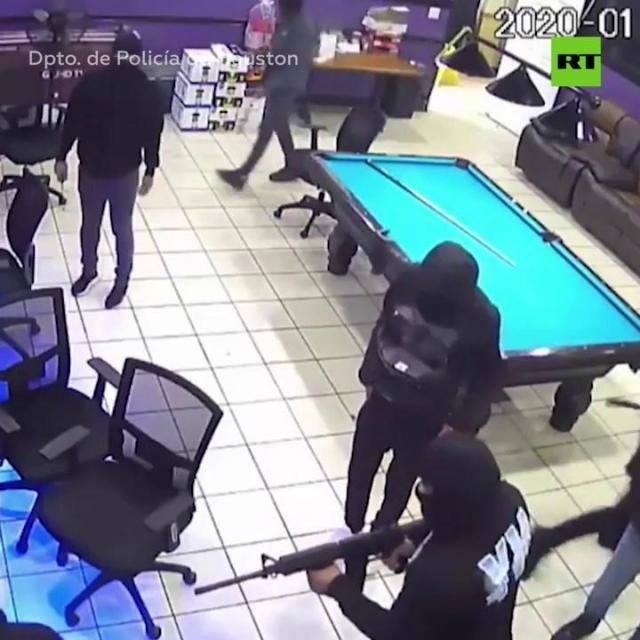weapon: (186, 512, 430, 614)
